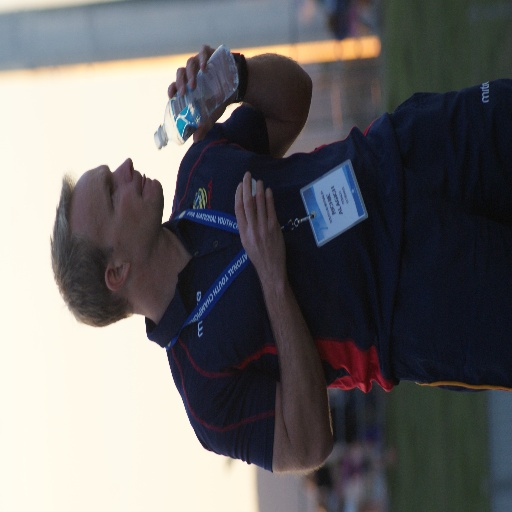hand: (167, 43, 229, 146), (233, 169, 275, 272)
